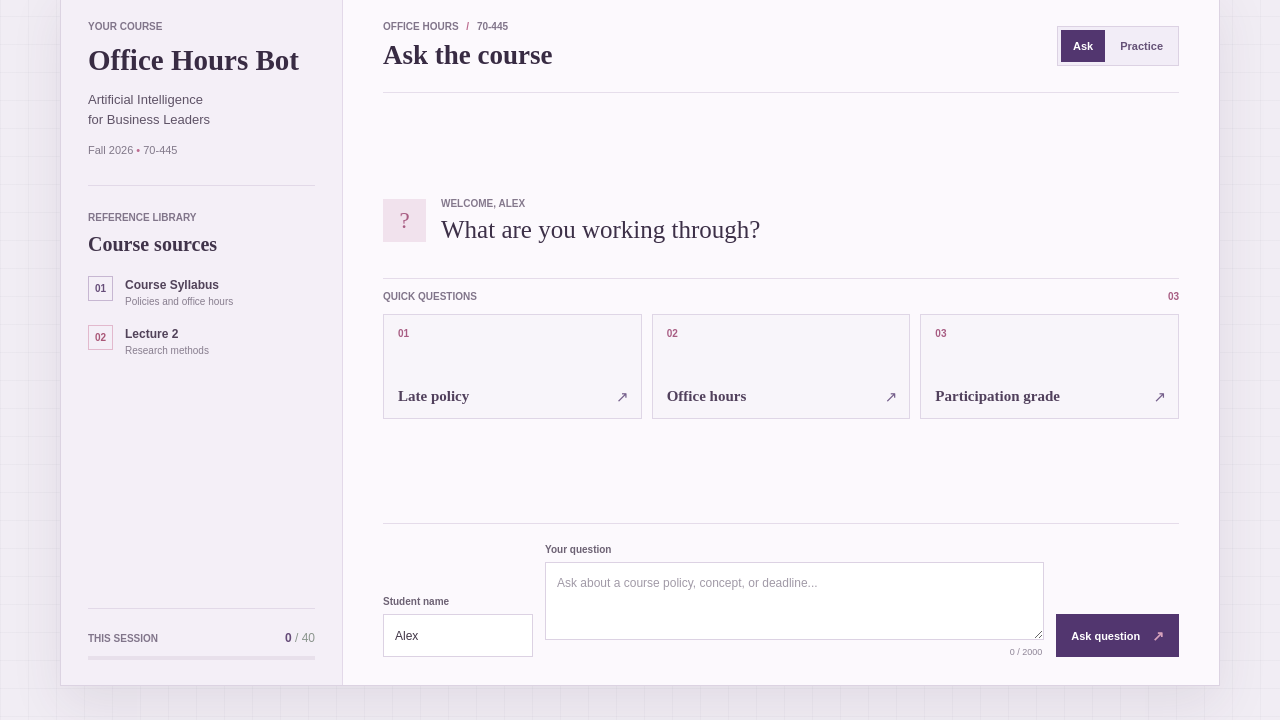
Test: Office Hours Bot - Story 1 › shows the question character count and enforces the text limit
(page scrolled)
Expected: the text "0 / 2000" is shown, [1010,647,1042,657]
Type "What is the late policy?" into the text box labelled "Your question". click: (795, 601)
box: [545,562,1044,640]
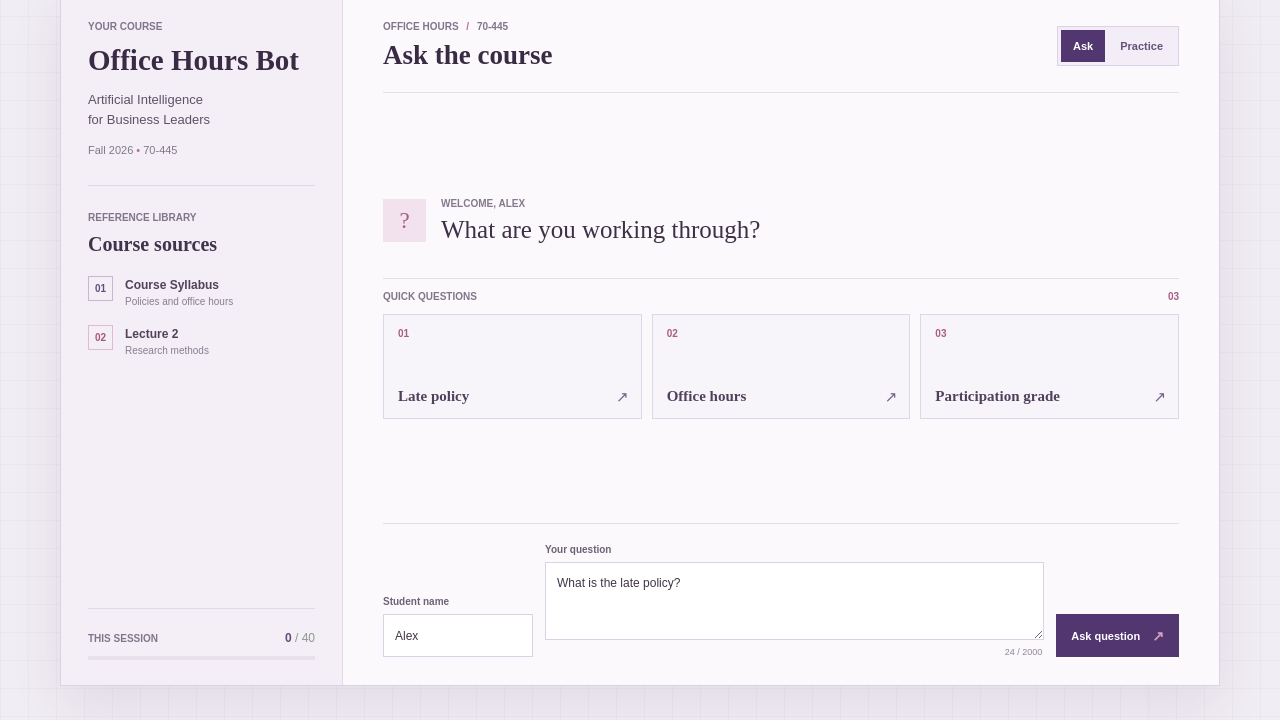
Result: the text "24 / 2000" is shown at [1005,647,1042,657]
